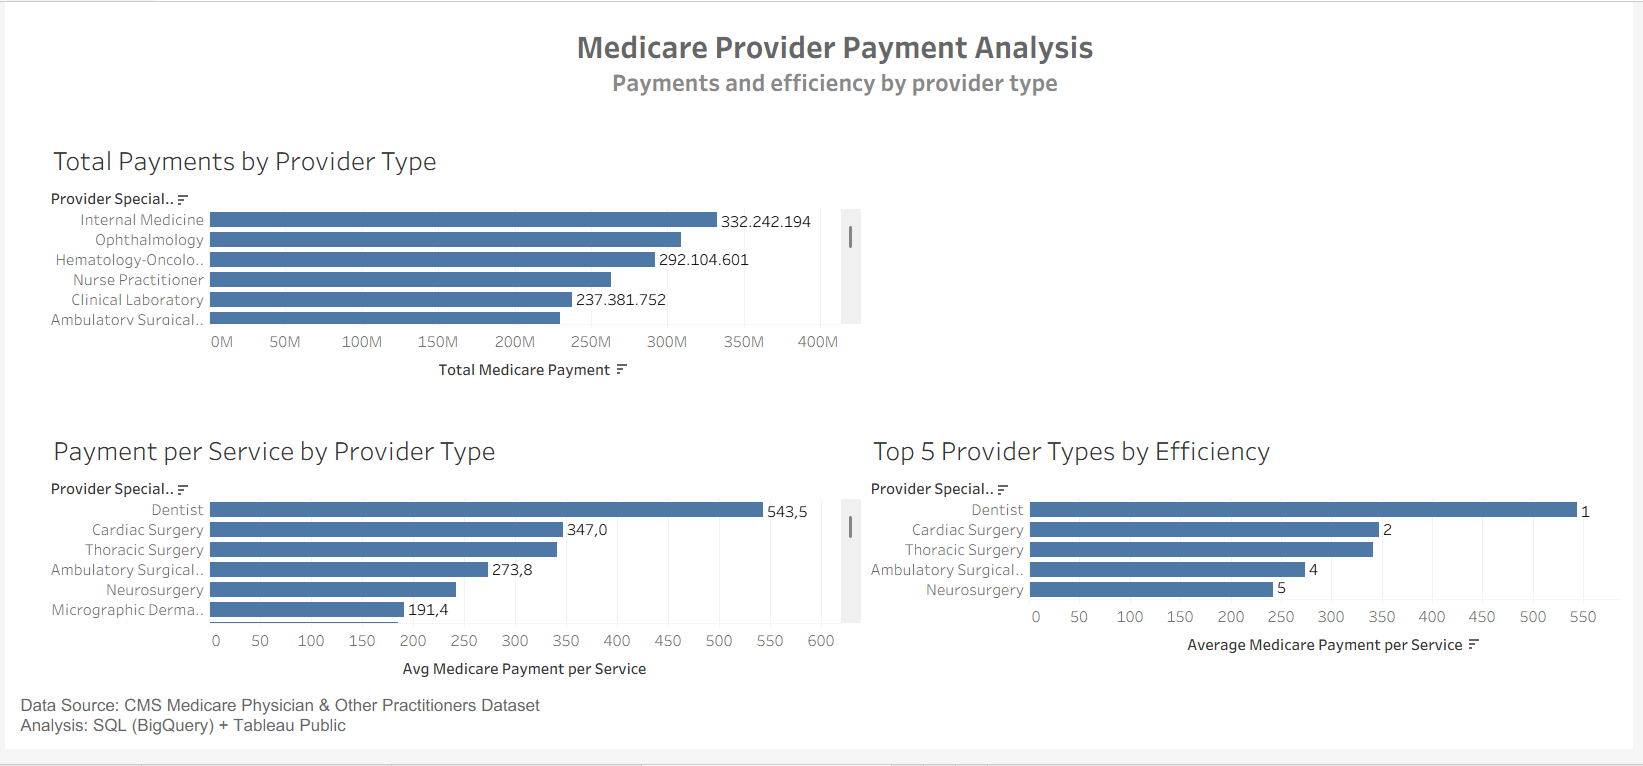

The page's visual inventory and layout, read from the dashboard file:
{"tool":"tableau","page":{"name":"Medicare Provider Payment Analysis","canvas":[1000,1000],"units":"permille","ordinal":0},"visuals":[{"type":"blank","box":[4.9,10.7,19.6,910.3]},{"type":"text","box":[24.6,10.7,970.5,167.3]},{"type":"worksheet","title":"Total Payments by Provider Type","mark":"Automatic","rows":["Rndrng_Prvdr_Type"],"cols":["total_paid_amount"],"box":[24.6,178,503.7,342.1]},{"type":"blank","box":[528.2,178,466.9,388.6]},{"type":"blank","box":[24.6,520.1,503.7,46.4]},{"type":"worksheet","title":"Payment per Service by Provider Type","mark":"Automatic","rows":["Rndrng_Prvdr_Type"],"cols":["payment_to_service_ratio"],"box":[24.6,566.5,503.7,354.5]},{"type":"worksheet","title":"Top 5 Provider Types by Efficiency","mark":"Automatic","rows":["Rndrng_Prvdr_Type"],"cols":["payment_to_service_ratio"],"box":[528.2,566.7,466.9,354.3]},{"type":"text","box":[4.9,921,990.2,68.3]}]}

Visuals, with their boxes on the dashboard's canvas, which has no fixed pixel size, in thousandths of its width and height (x1, y1, x2, y2). These are canvas units, not pixel positions in the 1643x766 screenshot, which may show the page scaled, cropped or inside an application window:
blank: [5, 11, 24, 921]
text: [25, 11, 995, 178]
"Total Payments by Provider Type" worksheet: [25, 178, 528, 520]
blank: [528, 178, 995, 567]
blank: [25, 520, 528, 566]
"Payment per Service by Provider Type" worksheet: [25, 566, 528, 921]
"Top 5 Provider Types by Efficiency" worksheet: [528, 567, 995, 921]
text: [5, 921, 995, 989]
